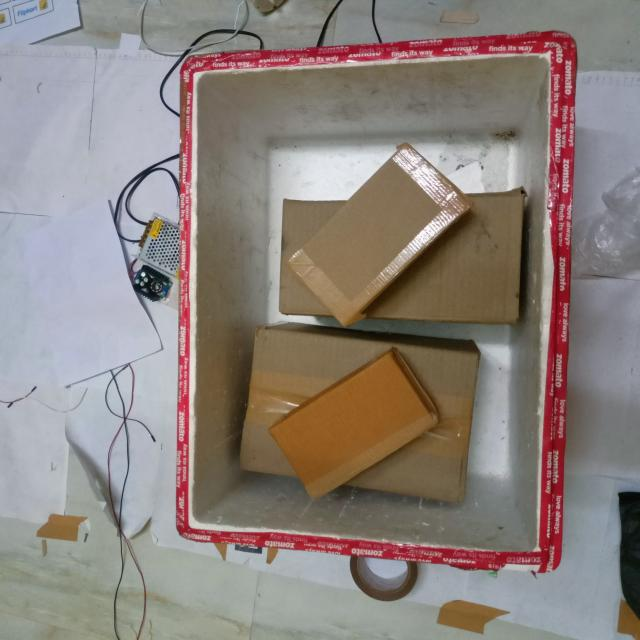box: (294, 148, 462, 323), (282, 354, 436, 497)
